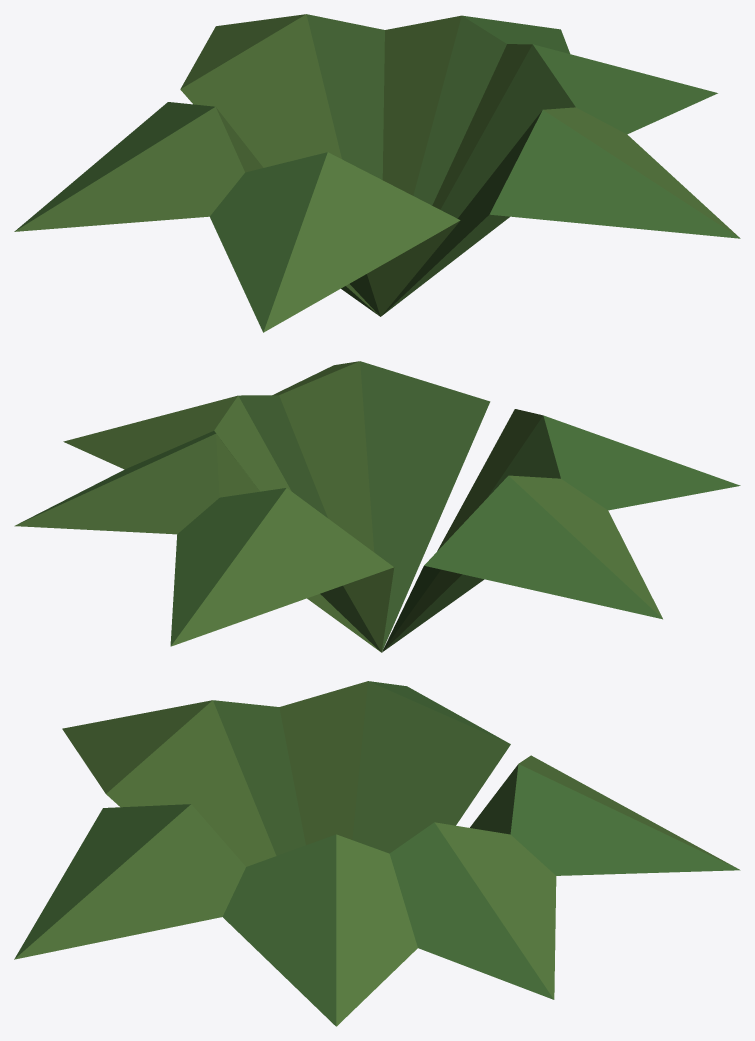
Rendered from jungle-herb.glb.
The picture shows the model from 3 angles, top to bottom: view 1: azimuth 30°, elevation 25°; view 2: azimuth 150°, elevation 25°; view 3: azimuth 270°, elevation 25°; orthographic projection. The views are drawn at different scales.
Parts seen in each view (by area): view 1: Тропическое почвопокровное растение; view 2: Тропическое почвопокровное растение; view 3: Тропическое почвопокровное растение.
Part boxes in pixels (bbox=[...]): Тропическое почвопокровное растение: bbox=[14, 14, 740, 332]; Тропическое почвопокровное растение: bbox=[14, 361, 740, 652]; Тропическое почвопокровное растение: bbox=[14, 681, 740, 1026].
Bounding box in the file's own units: 0.8336 × 0.28 × 0.7517.
